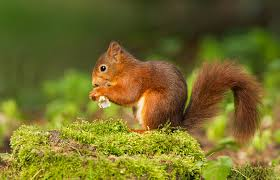Ardilla: (91, 40, 196, 128)
